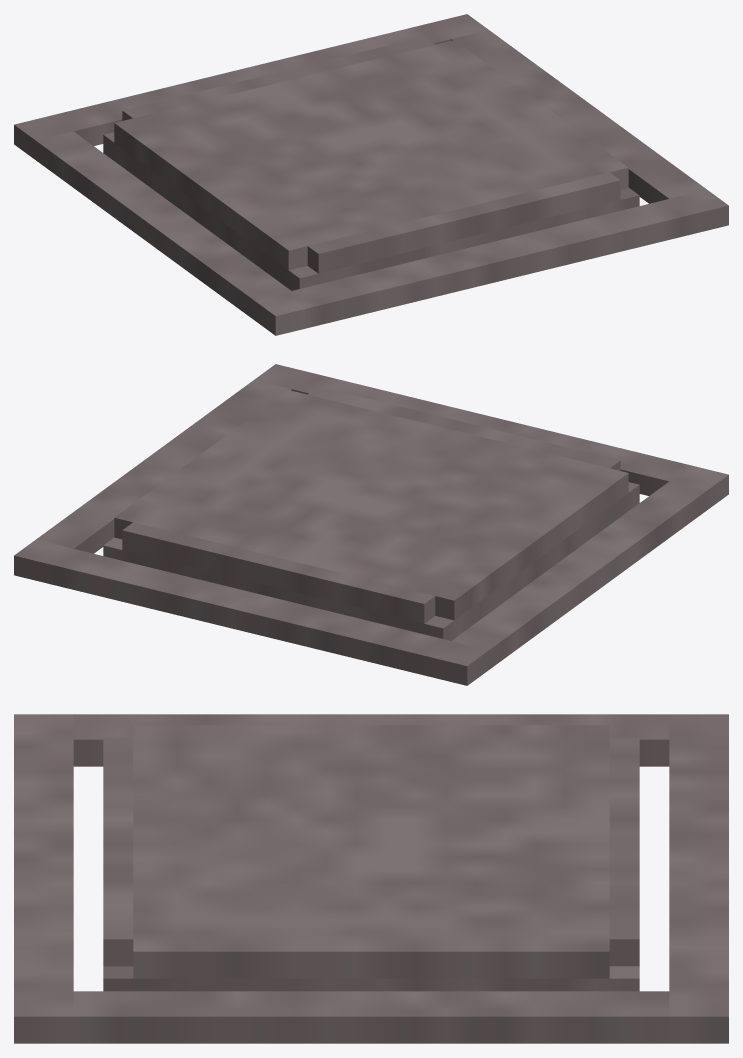
File: Pressure_Plate_normal.fbx
3 renders of one model, top to bottom at view 1: azimuth 30°, elevation 25°; view 2: azimuth 150°, elevation 25°; view 3: azimuth 270°, elevation 25°, orthographic. The views are drawn at different scales.
Parts seen in each view (by area): view 1: Pressure_Plate_normal; view 2: Pressure_Plate_normal; view 3: Pressure_Plate_normal.
Part boxes in pixels (x1,y1,x2,y2): Pressure_Plate_normal: [14, 14, 728, 335]; Pressure_Plate_normal: [14, 364, 728, 685]; Pressure_Plate_normal: [14, 714, 728, 1043].
Size of the model in its own units: 24 by 2 by 24.
Materials: 1 (1 with a texture image).
